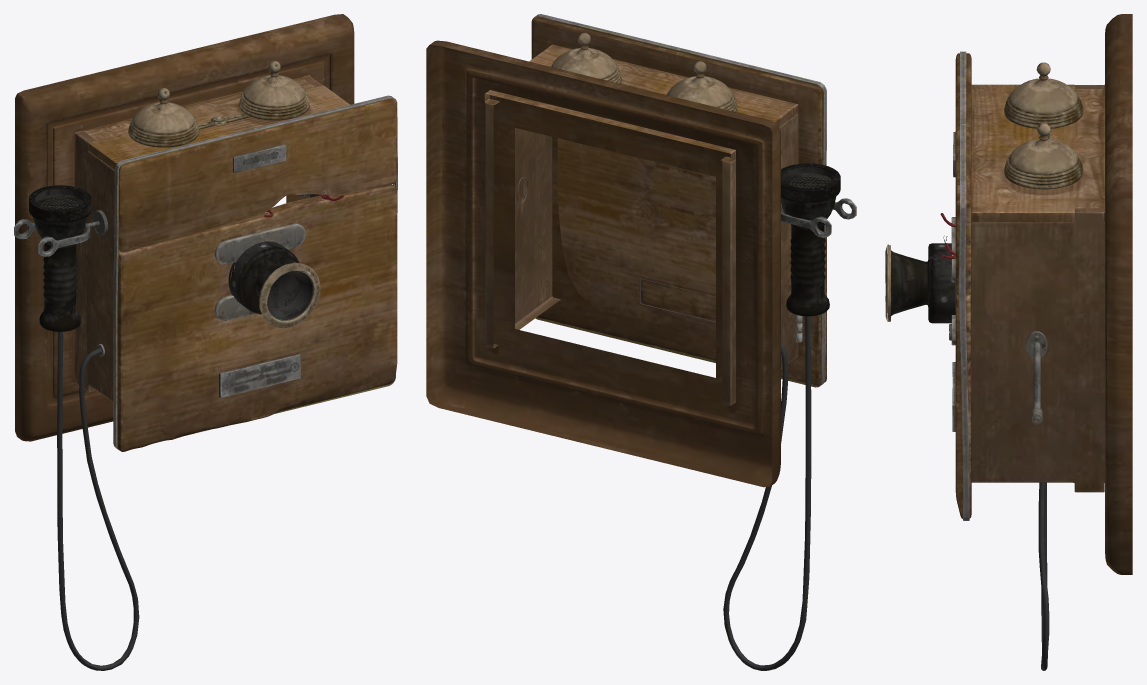
File: rotary-phone.glb
3 views of the same model, side by side, from view 1: azimuth 30°, elevation 25°; view 2: azimuth 150°, elevation 25°; view 3: azimuth 270°, elevation 25° (orthographic). The views are drawn at different scales.
Visible parts, largest first — view 1: g_Box011_001_14___Default_0; view 2: g_Box011_001_14___Default_0; view 3: g_Box011_001_14___Default_0.
Part boxes in pixels (x1=…): g_Box011_001_14___Default_0: x1=14, y1=14, x2=397, y2=670; g_Box011_001_14___Default_0: x1=426, y1=14, x2=856, y2=670; g_Box011_001_14___Default_0: x1=885, y1=14, x2=1132, y2=670.
Size of the model in its own units: 0.1531 by 0.23 by 0.0813.
1 material, 1 textured.
